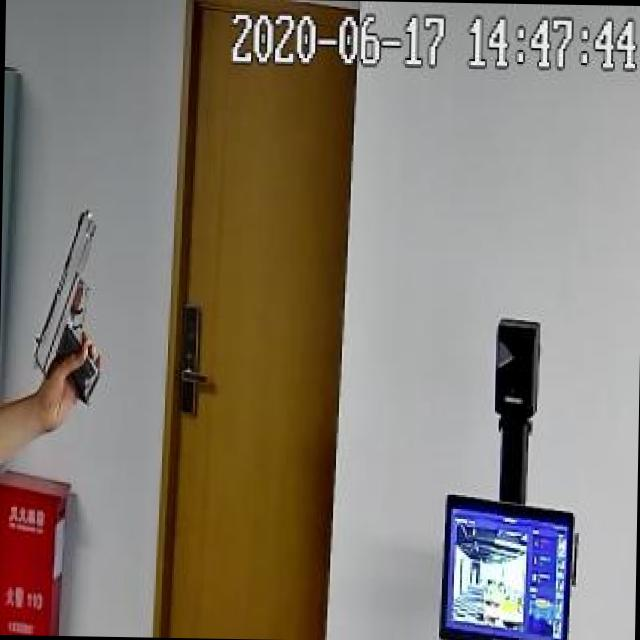Guns: (20, 172, 126, 433)
